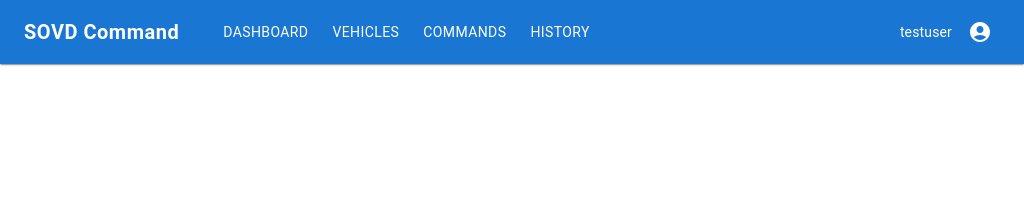
Header Component › opens user menu when clicking account icon
Click the button with test id "user-menu-button".
click(980, 32)  # box x1=960 y1=12 x2=1000 y2=52
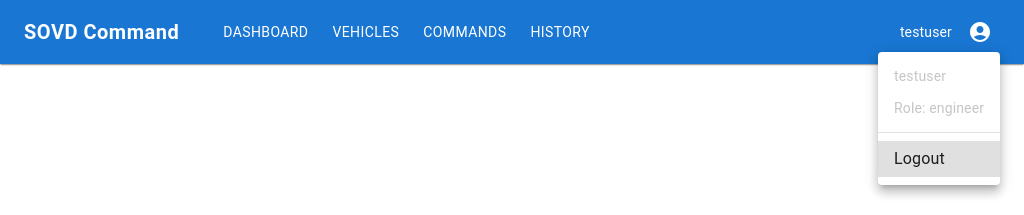
Result: the text "Role: engineer" is shown at x1=894 y1=98 x2=984 y2=118
Result: the menu item with test id "logout-button" is shown at x1=878 y1=141 x2=1000 y2=177
